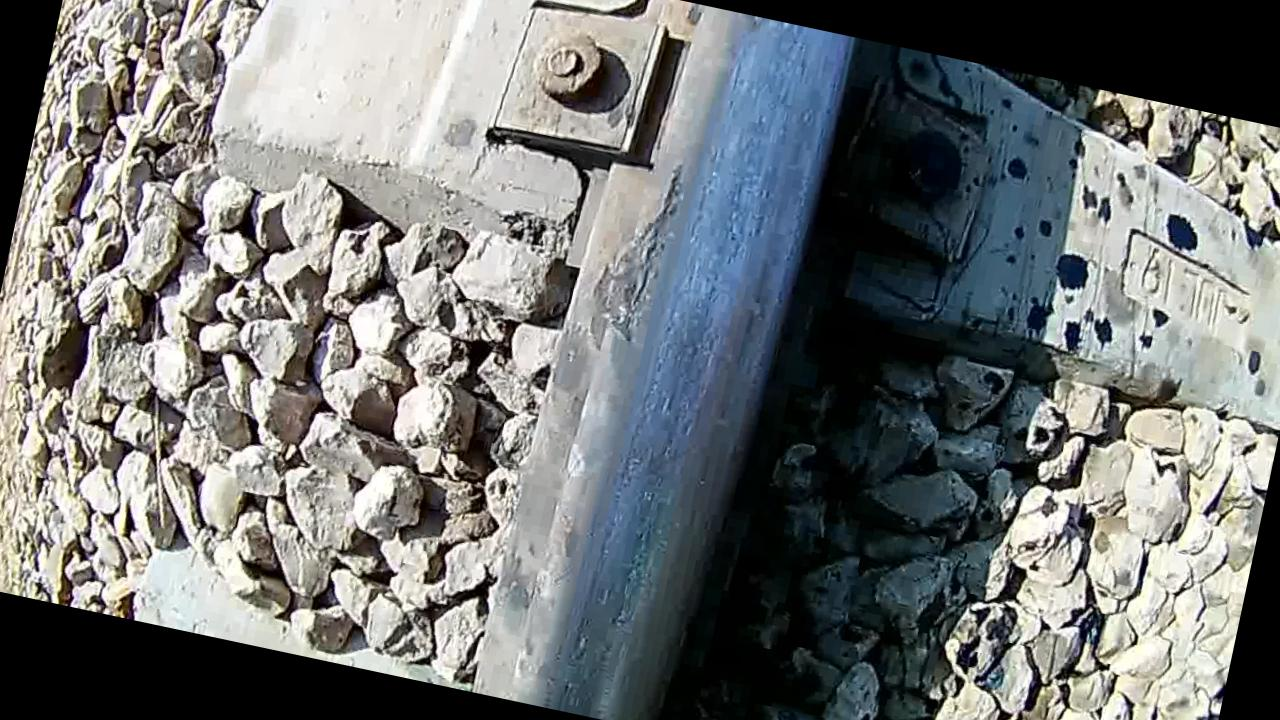clip_missing: (515, 0, 857, 720)
